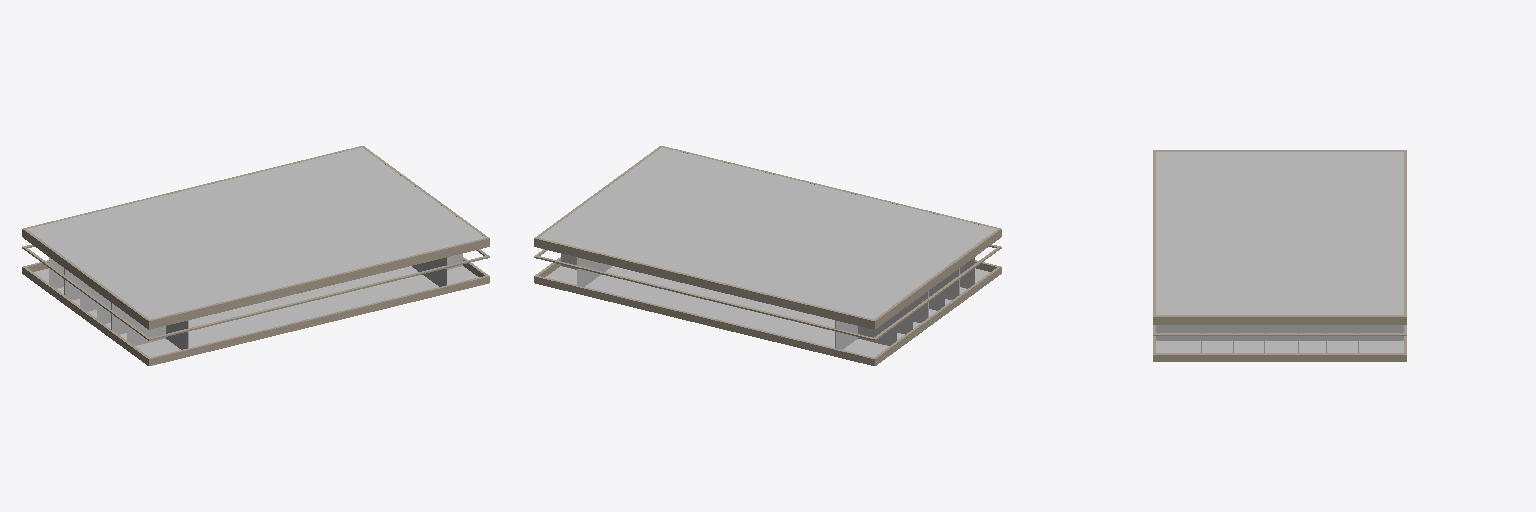
File: Floor13ft.obj
3 renders of one model, left to right at view 1: azimuth 30°, elevation 25°; view 2: azimuth 150°, elevation 25°; view 3: azimuth 270°, elevation 25°, orthographic.
Visible parts, largest first — view 1: Floor13ft.obj; view 2: Floor13ft.obj; view 3: Floor13ft.obj.
Boxes of the visible parts, x1=… form: Floor13ft.obj: x1=22, y1=146, x2=489, y2=365; Floor13ft.obj: x1=534, y1=146, x2=1001, y2=365; Floor13ft.obj: x1=1153, y1=150, x2=1406, y2=361.
Size of the model in its own units: 38.71 by 4.89 by 24.94.